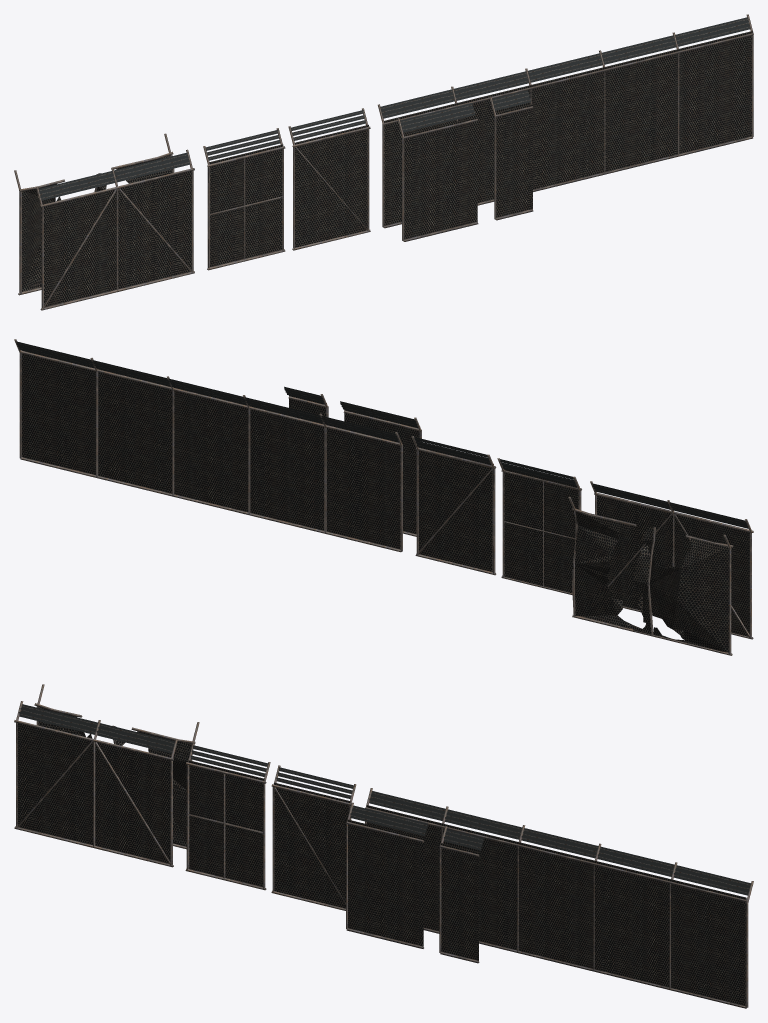
File: fence_03.FBX
3 views of the same model, one above another, from view 1: azimuth 30°, elevation 25°; view 2: azimuth 150°, elevation 25°; view 3: azimuth 330°, elevation 25° (orthographic). The views are drawn at different scales.
Parts seen in each view (by area): view 1: fence_03_02, fence_03_05, fence_03_04, fence_03_03, fence_03_01, fence_03_01_short, fence_03_06; view 2: fence_03_02, fence_03_06, fence_03_05, fence_03_03, fence_03_04, fence_03_01, fence_03_01_short; view 3: fence_03_02, fence_03_05, fence_03_04, fence_03_01, fence_03_03, fence_03_01_short, fence_03_06.
Part boxes in pixels (bbox=[...]): fence_03_02: bbox=[377, 14, 753, 228]; fence_03_05: bbox=[36, 149, 194, 310]; fence_03_04: bbox=[203, 128, 285, 270]; fence_03_03: bbox=[288, 108, 370, 250]; fence_03_01: bbox=[397, 103, 478, 241]; fence_03_01_short: bbox=[489, 90, 533, 220]; fence_03_06: bbox=[14, 133, 174, 295]; fence_03_02: bbox=[14, 339, 402, 552]; fence_03_06: bbox=[568, 497, 733, 655]; fence_03_05: bbox=[590, 481, 753, 639]; fence_03_03: bbox=[411, 436, 496, 575]; fence_03_04: bbox=[497, 458, 581, 595]; fence_03_01: bbox=[340, 401, 421, 536]; fence_03_01_short: bbox=[284, 386, 328, 417]; fence_03_02: bbox=[365, 788, 753, 1008]; fence_03_05: bbox=[14, 701, 177, 867]; fence_03_04: bbox=[185, 743, 270, 890]; fence_03_01: bbox=[346, 802, 427, 948]; fence_03_03: bbox=[271, 765, 356, 910]; fence_03_01_short: bbox=[439, 826, 483, 963]; fence_03_06: bbox=[34, 684, 199, 849].
Size of the model in its own units: 2887 by 348 by 466.
